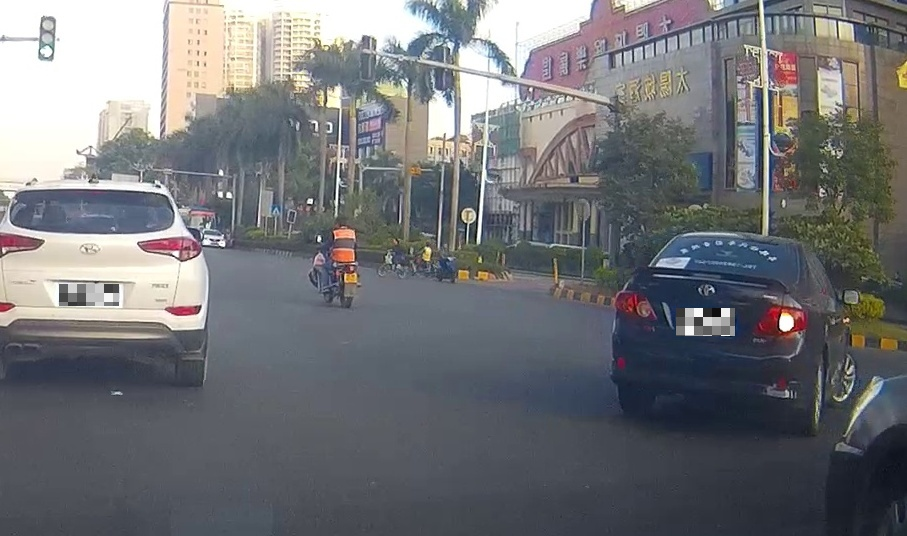L_light: (613, 289, 658, 321), (0, 232, 46, 258)
R_light: (752, 304, 808, 337), (138, 235, 202, 261)
T_light: (69, 190, 108, 195), (715, 237, 740, 243)
day-no: (0, 179, 210, 386)
day-right: (608, 231, 815, 433)
plate_1: (59, 284, 119, 306)
plate_2: (676, 308, 735, 336)
